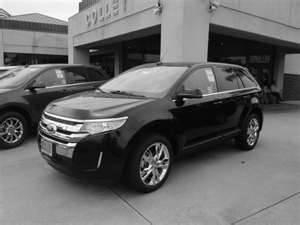car: (40, 63, 265, 195)
